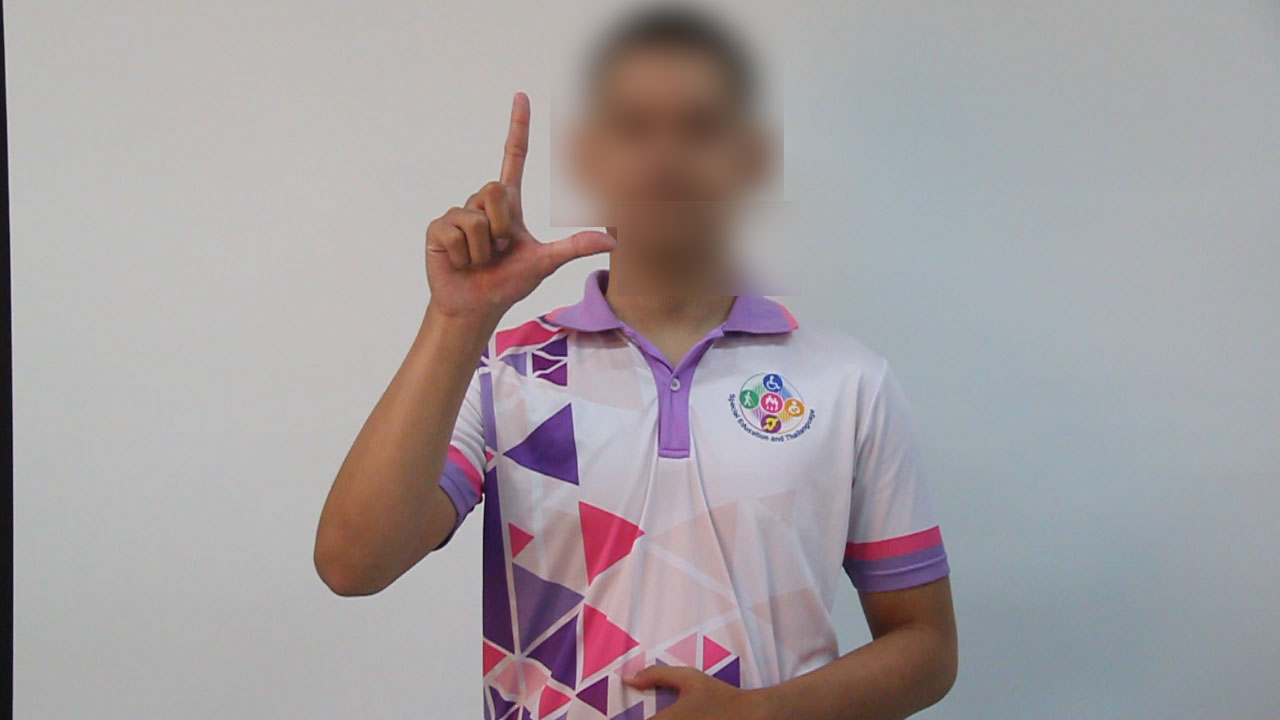lor: (317, 46, 623, 351)
